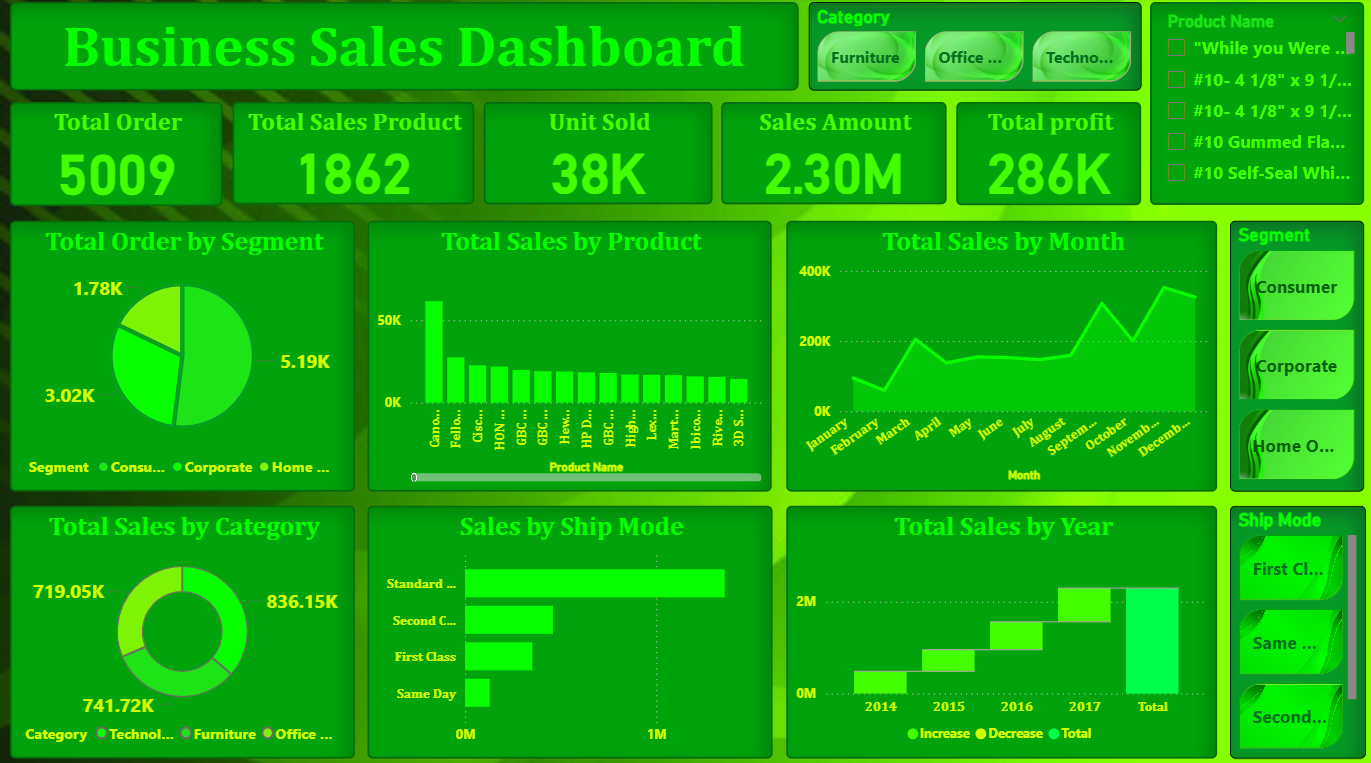

What the dashboard file says about the page in this screenshot:
{"tool":"powerbi","page":{"name":"Page 1","canvas":[1280,720],"ordinal":0},"visuals":[{"type":"card","title":"Total Order","fields":{"Values":["Count(Sample - Superstore.Order ID)"]},"box":[9.3,97.7,197.7,96.5],"z":0},{"type":"card","title":"Total Sales Product","fields":{"Values":["Count(Sample - Superstore.Product ID)"]},"box":[216.3,97.7,224.4,95.3],"z":1000},{"type":"card","title":"Unit Sold","fields":{"Values":["Sum(Sample - Superstore.Quantity)"]},"box":[450,97.7,212.8,95.3],"z":2000},{"type":"card","title":"Total profit","fields":{"Values":["Sum(Sample - Superstore.Profit)"]},"box":[889.2,97.2,172.1,96.1],"z":3000},{"type":"card","title":"Sales Amount","fields":{"Values":["Sum(Sample - Superstore.Sales)"]},"box":[670.9,97.7,209.3,95.3],"z":4000},{"type":"pieChart","title":"Total Order by Segment","fields":{"Category":["Sample - Superstore.Segment"],"Y":["CountNonNull(Sample - Superstore.Order ID)"]},"box":[9.3,208.1,320.9,252.3],"z":5000},{"type":"textbox","box":[9.3,4.7,733.7,82.6],"z":6000},{"type":"columnChart","title":"Total Sales by Product","fields":{"Category":["Sample - Superstore.Product Name"],"Y":["Sum(Sample - Superstore.Sales)"]},"box":[342.2,207.7,375.8,252.2],"z":7000},{"type":"areaChart","title":"Total Sales by Month","fields":{"Category":["Sample - Superstore.Order Date.Variation.Date Hierarchy.Month"],"Y":["Sum(Sample - Superstore.Sales)"]},"box":[731.3,207.7,401.1,252.2],"z":8000},{"type":"donutChart","title":"Total Sales by Category","fields":{"Category":["Sample - Superstore.Category"],"Y":["Sum(Sample - Superstore.Sales)"]},"box":[9.3,473.3,320.9,234.9],"z":9000},{"type":"waterfallChart","title":"Total Sales by Year","fields":{"Category":["Sample - Superstore.Order Date.Variation.Date Hierarchy.Year"],"Y":["Sum(Sample - Superstore.Sales)"]},"box":[731.4,473.3,401.2,234.9],"z":10000},{"type":"slicer","fields":{"Values":["Sample - Superstore.Product Name"]},"box":[1069.9,4.8,199.3,188.5],"z":11000},{"type":"advancedSlicerVisual","fields":{"Values":["Sample - Superstore.Category"]},"box":[751.9,4.2,309.4,82.4],"z":12000},{"type":"barChart","title":"Sales by Ship Mode","fields":{"Category":["Sample - Superstore.Ship Mode"],"Y":["Sum(Sample - Superstore.Sales)"]},"box":[341.9,473.3,376.7,234.9],"z":13000},{"type":"advancedSlicerVisual","fields":{"Values":["Sample - Superstore.Segment"]},"box":[1144.3,207.7,124.9,252.2],"z":15000},{"type":"advancedSlicerVisual","fields":{"Values":["Sample - Superstore.Ship Mode"]},"box":[1144.3,473.1,126.1,235.3],"z":16000}]}

Visuals, with their boxes in screenshot pixels (x1, y1, x2, y2), scaled from the page's 1280x720 canvas onto the 1371x763 screenshot:
"Total Order" card: Rect(10, 104, 222, 206)
"Total Sales Product" card: Rect(232, 104, 472, 205)
"Unit Sold" card: Rect(482, 104, 710, 205)
"Total profit" card: Rect(952, 103, 1137, 205)
"Sales Amount" card: Rect(719, 104, 943, 205)
"Total Order by Segment" pieChart: Rect(10, 221, 354, 488)
textbox: Rect(10, 5, 796, 93)
"Total Sales by Product" columnChart: Rect(367, 220, 769, 487)
"Total Sales by Month" areaChart: Rect(783, 220, 1213, 487)
"Total Sales by Category" donutChart: Rect(10, 502, 354, 750)
"Total Sales by Year" waterfallChart: Rect(783, 502, 1213, 750)
slicer - Sample - Superstore.Product Name: Rect(1146, 5, 1359, 205)
advancedSlicerVisual - Sample - Superstore.Category: Rect(805, 4, 1137, 92)
"Sales by Ship Mode" barChart: Rect(366, 502, 770, 750)
advancedSlicerVisual - Sample - Superstore.Segment: Rect(1226, 220, 1359, 487)
advancedSlicerVisual - Sample - Superstore.Ship Mode: Rect(1226, 501, 1361, 751)
